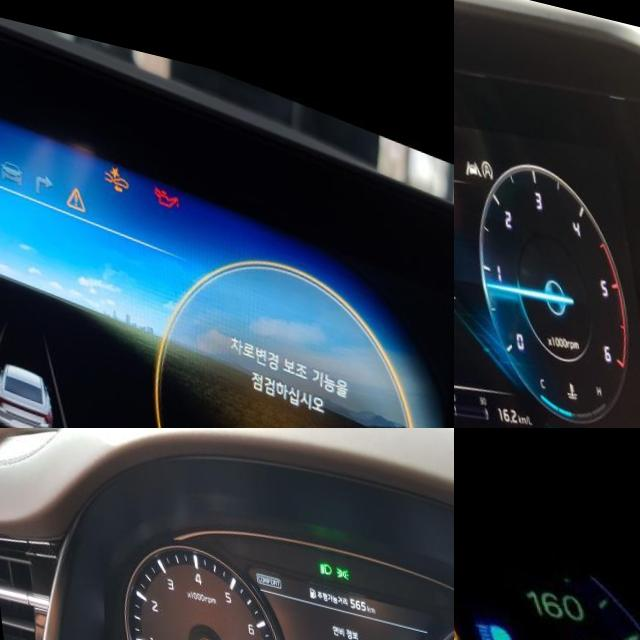Central Warning lamp: (59, 174, 85, 205)
LaneCenteringOff: (457, 136, 477, 159)
Low beam: (313, 543, 327, 560)
SideLamp: (329, 546, 345, 563)
